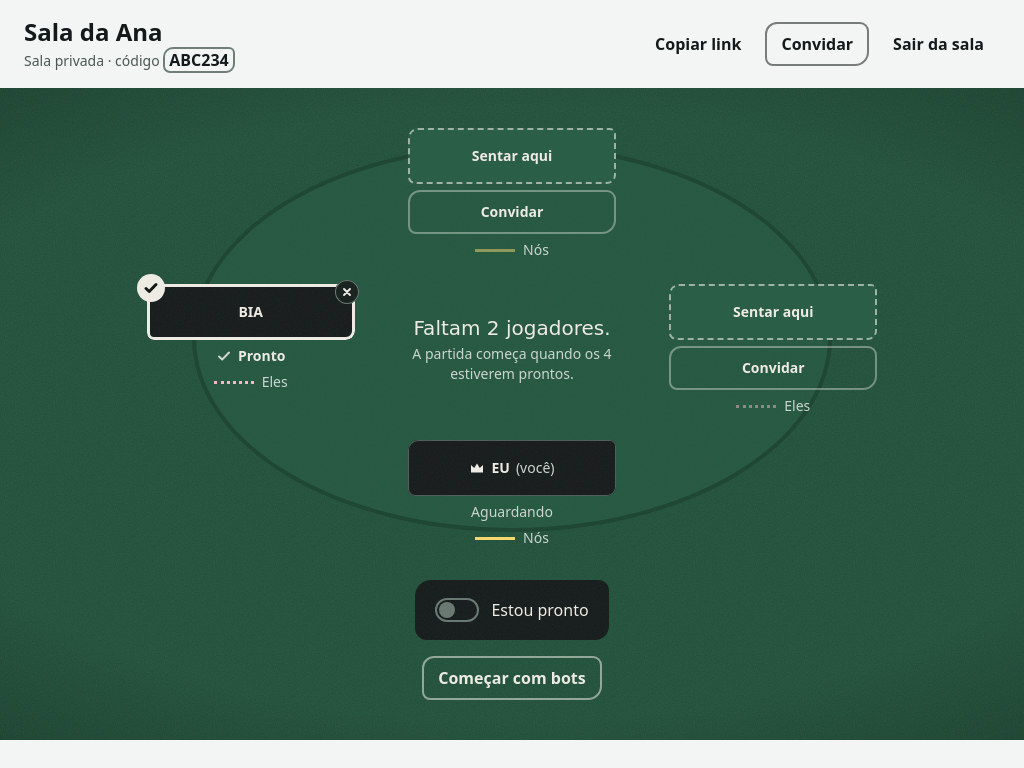
Test: erro na busca vira toast e a sala continua utilizável
This screenshot has width=1024, height=768.
Click the button "Convidar" in the row of "ABC234" at (817, 44), box [765, 22, 869, 66]
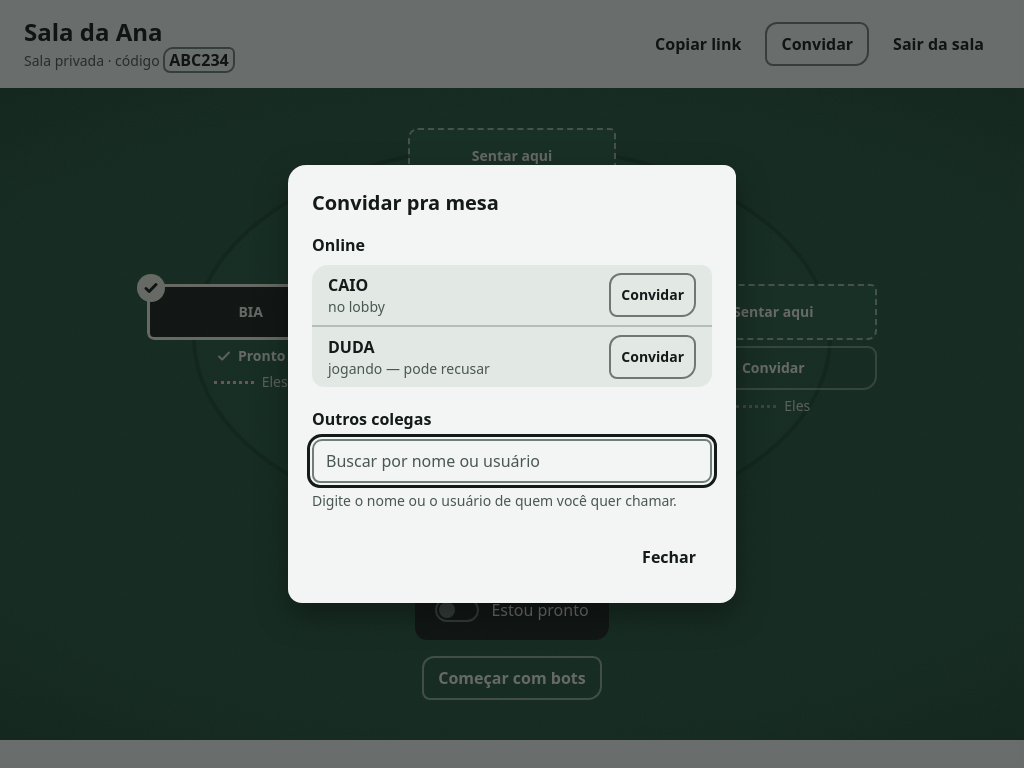
Type "zz" into the search field with placeholder "Buscar por nome ou usuário" at (512, 461), box [312, 439, 712, 483]
Wait 300 ms
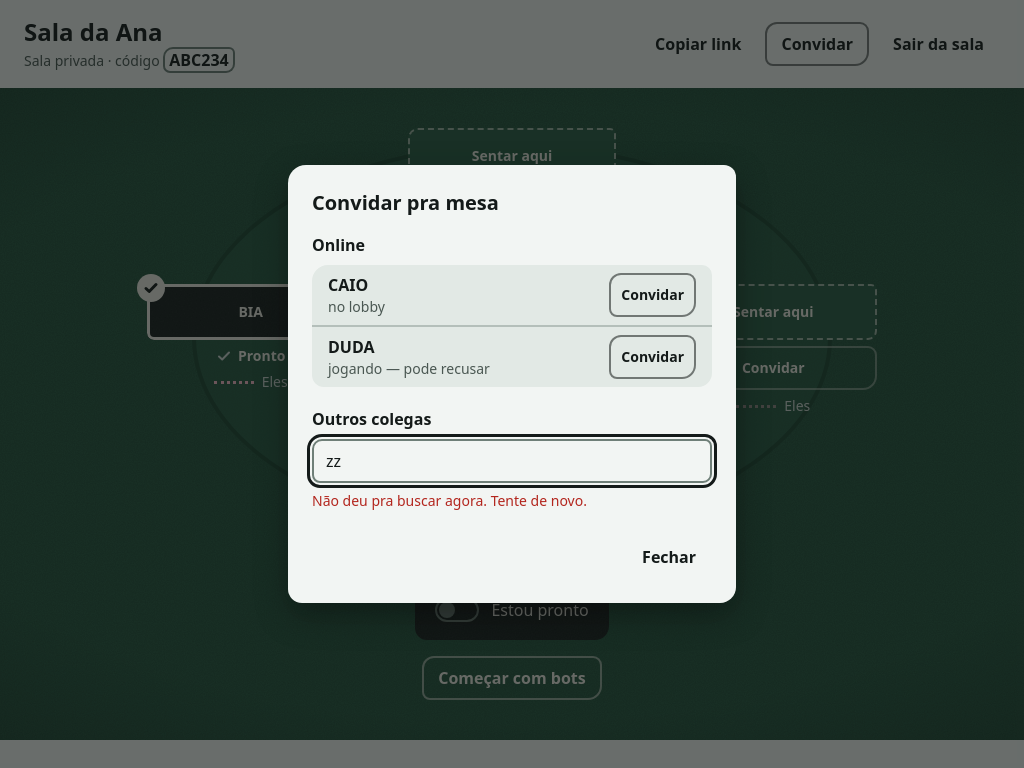
Result: the dialog shows "Não deu pra buscar" at [312, 491, 587, 510]
